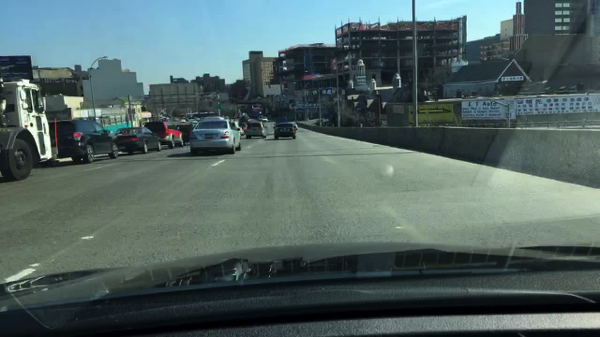car: (48, 119, 118, 163), (190, 118, 241, 155), (113, 126, 162, 155), (145, 120, 184, 149), (177, 121, 197, 144), (274, 122, 296, 140), (246, 121, 265, 140), (290, 121, 299, 130), (235, 128, 245, 136), (260, 116, 269, 121), (214, 107, 221, 110), (239, 126, 246, 129)
traffic sign: (214, 104, 221, 107)
truck: (0, 78, 52, 180)
